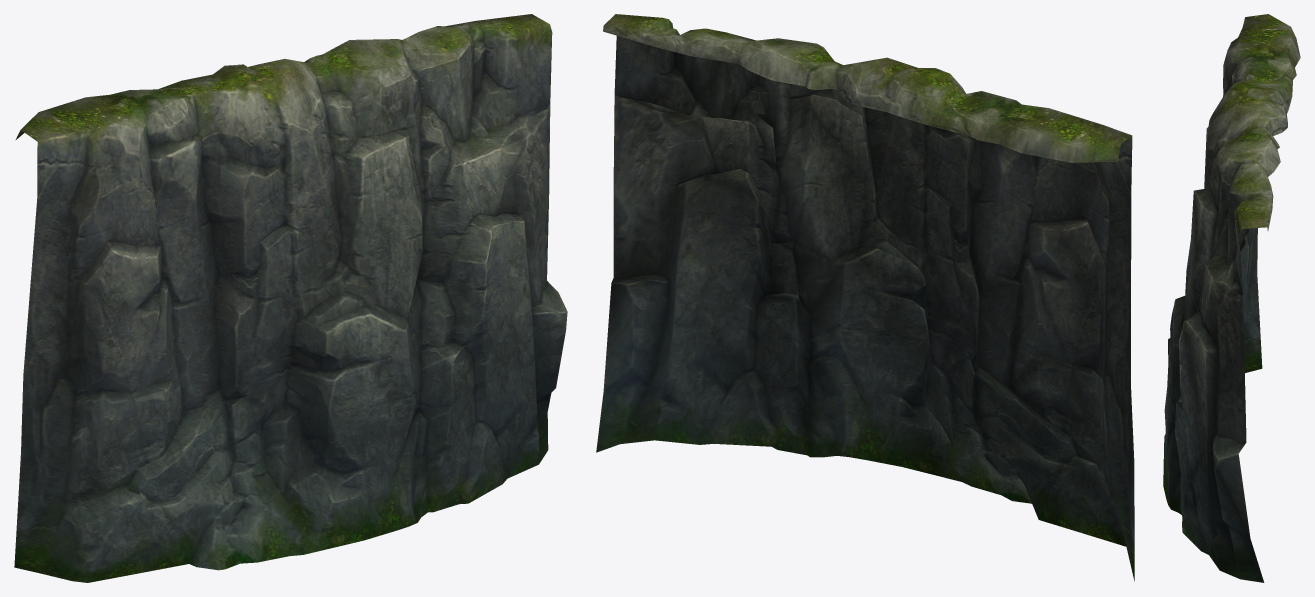
Rendered from QHS_shanshi01.FBX.
3 renders of one model, left to right at view 1: azimuth 30°, elevation 25°; view 2: azimuth 150°, elevation 25°; view 3: azimuth 270°, elevation 25°, orthographic. The views are drawn at different scales.
Parts seen in each view (by area): view 1: QHS_shanshi01; view 2: QHS_shanshi01; view 3: QHS_shanshi01.
Boxes of the visible parts, x1,y1,x2,y2 form: QHS_shanshi01: (14, 14, 567, 582); QHS_shanshi01: (596, 14, 1134, 581); QHS_shanshi01: (1163, 14, 1300, 582).
Size of the model in its own units: 4804 by 3866 by 1300.
